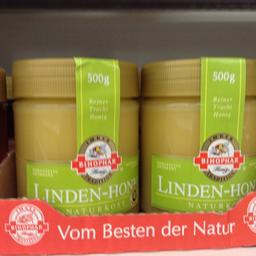honey: (8, 58, 139, 220), (143, 56, 255, 209)
